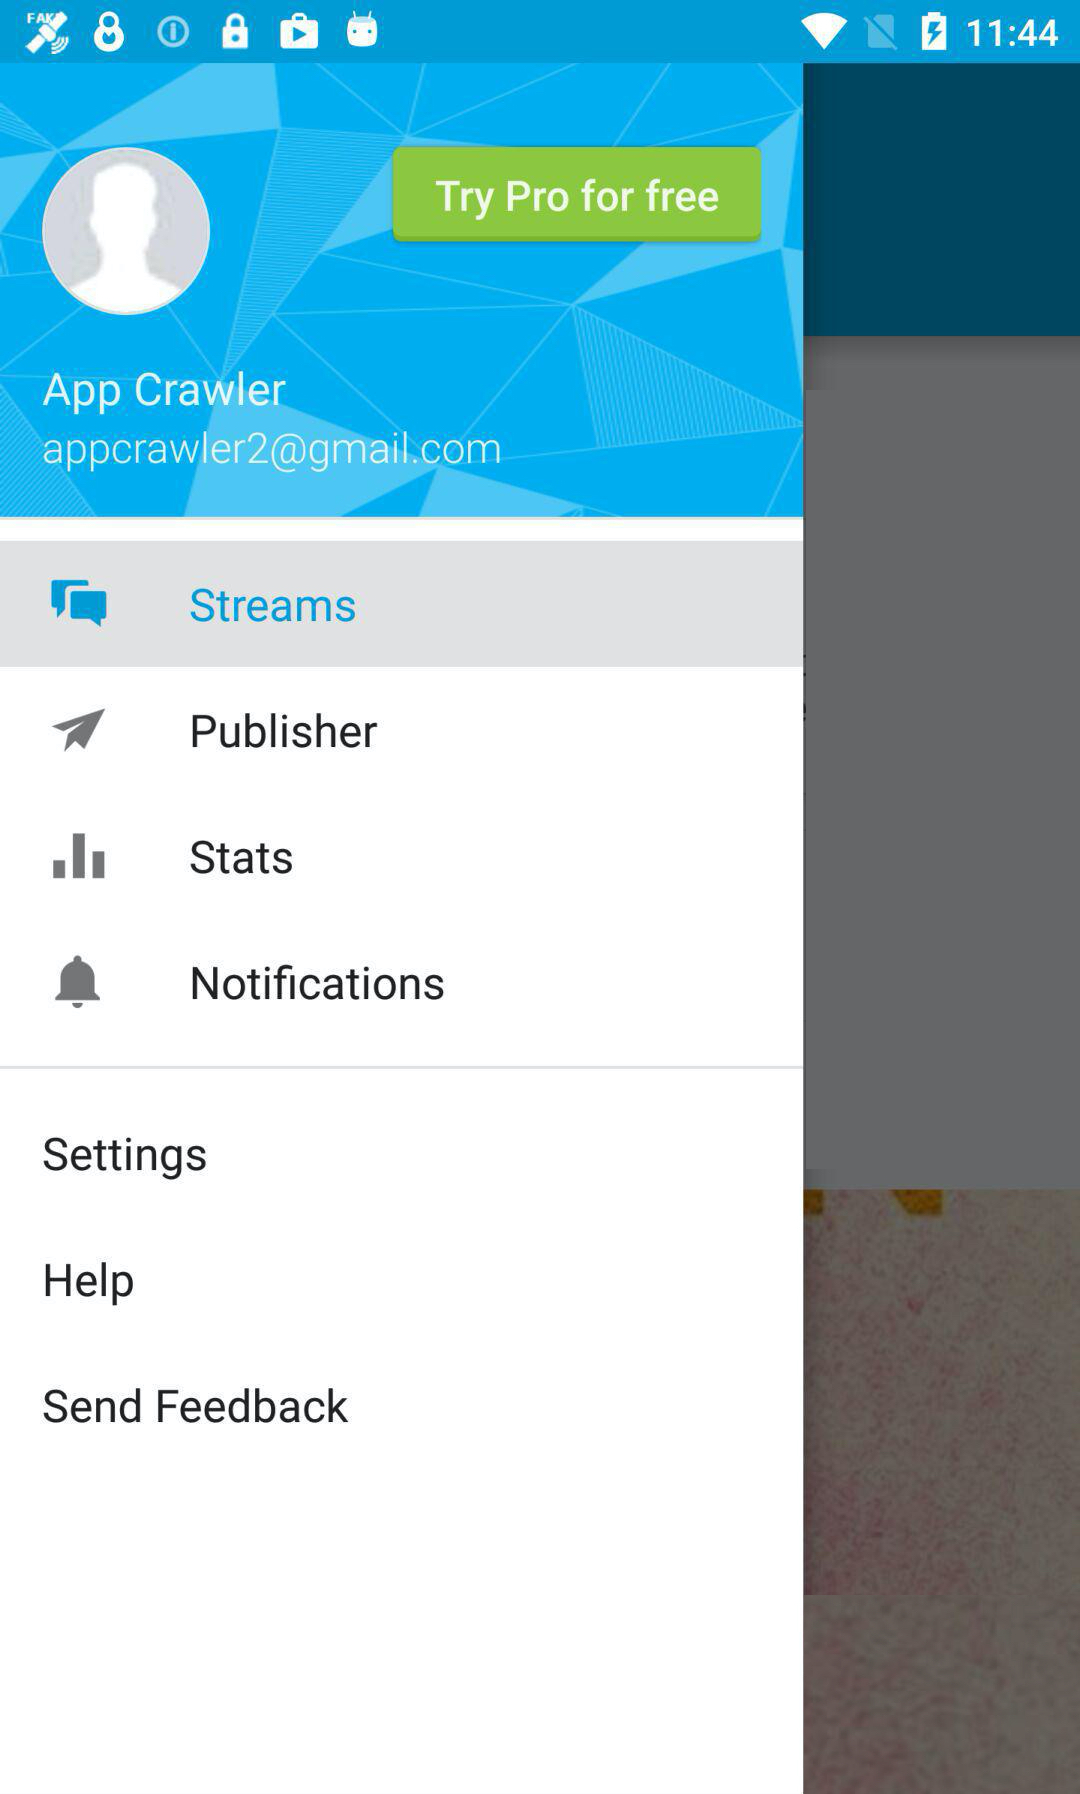Drawer: (1, 64, 803, 1794)
Icon: (42, 147, 211, 317), (50, 579, 109, 629), (53, 832, 108, 880), (55, 953, 102, 1010), (53, 709, 108, 753)
Text: (42, 429, 502, 475), (44, 1387, 350, 1426), (42, 370, 288, 416), (192, 964, 445, 1002), (44, 1137, 208, 1181), (192, 712, 380, 750), (190, 587, 357, 624), (45, 1260, 136, 1307), (190, 839, 293, 876)
TextButton: (392, 146, 764, 243)
UpperTaskBar: (1, 1, 1080, 64)
